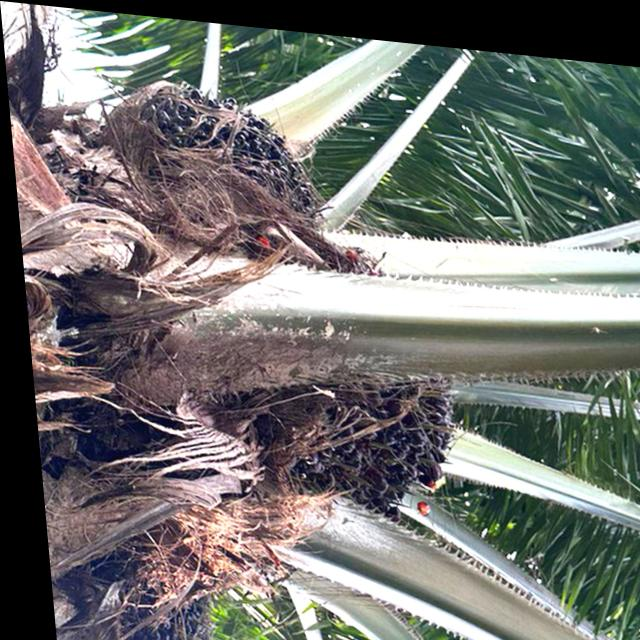ripe: (249, 350, 471, 523)
